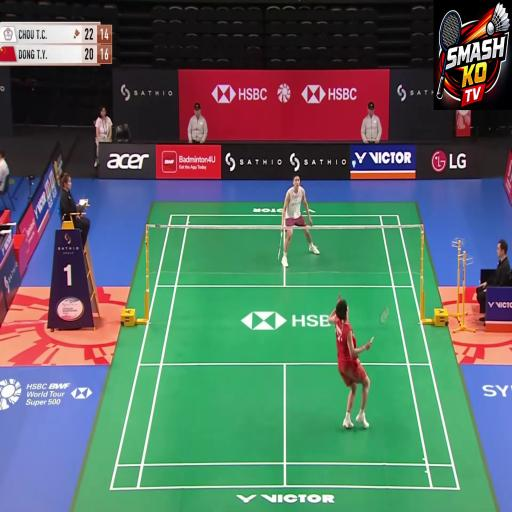player: (322, 308, 365, 436), (274, 162, 320, 281)
